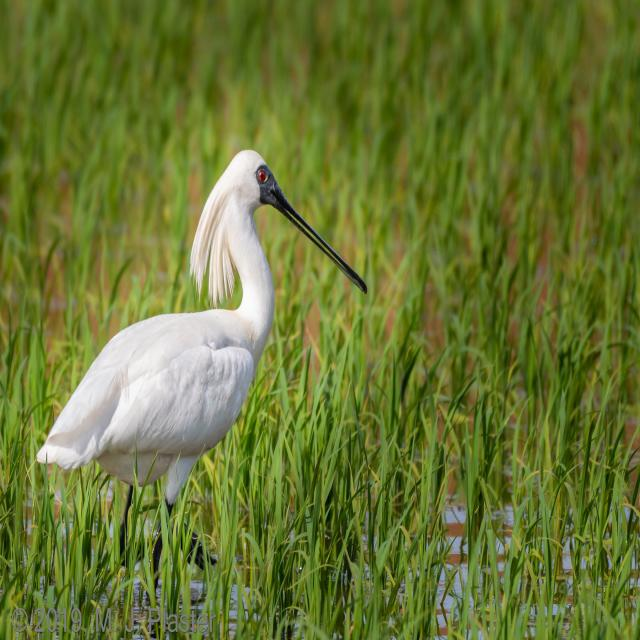Black-faced spoonbill: (38, 151, 366, 550)
